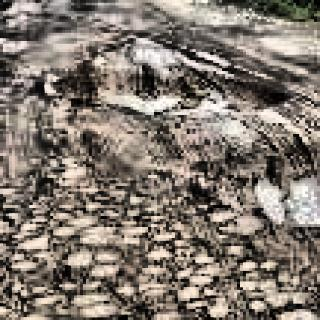pothole: (76, 35, 290, 116), (256, 169, 320, 232)
